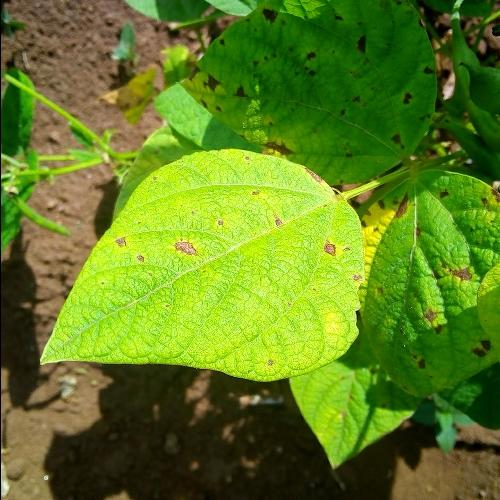hawar: (172, 223, 211, 262), (321, 230, 343, 266), (108, 234, 132, 257), (268, 210, 289, 236), (305, 164, 322, 187), (133, 253, 149, 264)
mozaik: (93, 170, 351, 354)
